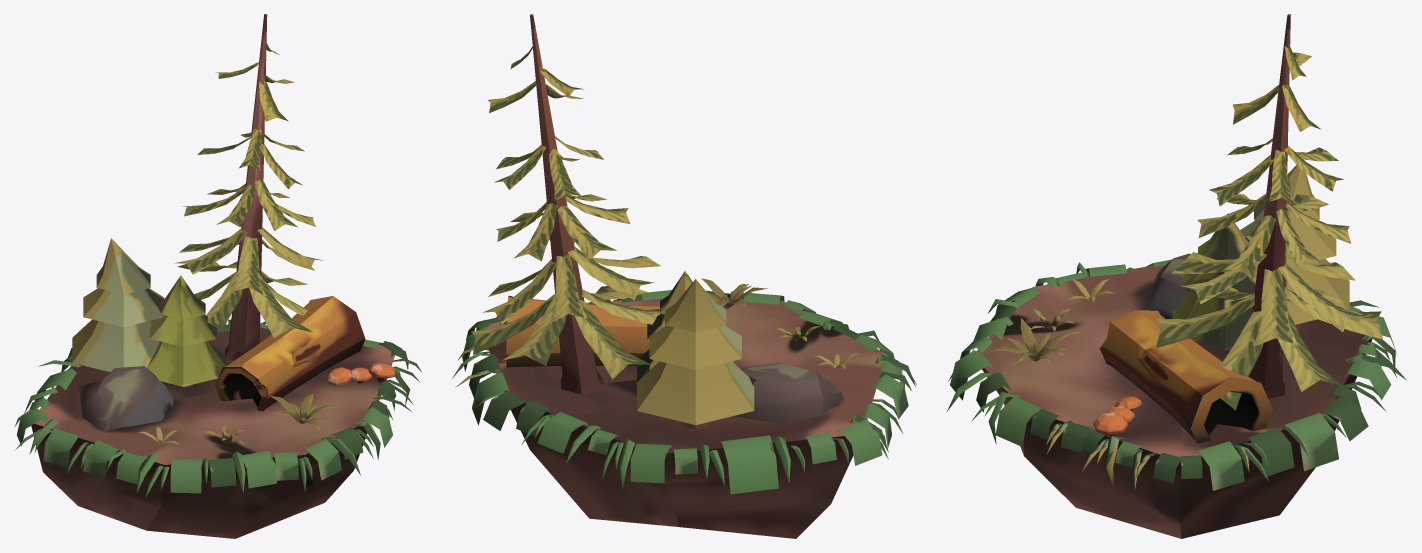
File: asset.glb
3 renders of one model, left to right at view 1: azimuth 30°, elevation 25°; view 2: azimuth 150°, elevation 25°; view 3: azimuth 270°, elevation 25°, orthographic. The views are drawn at different scales.
Bounding box in the file's own units: 5.07 × 5.67 × 4.39.
Materials: 2 (2 with a texture image).
